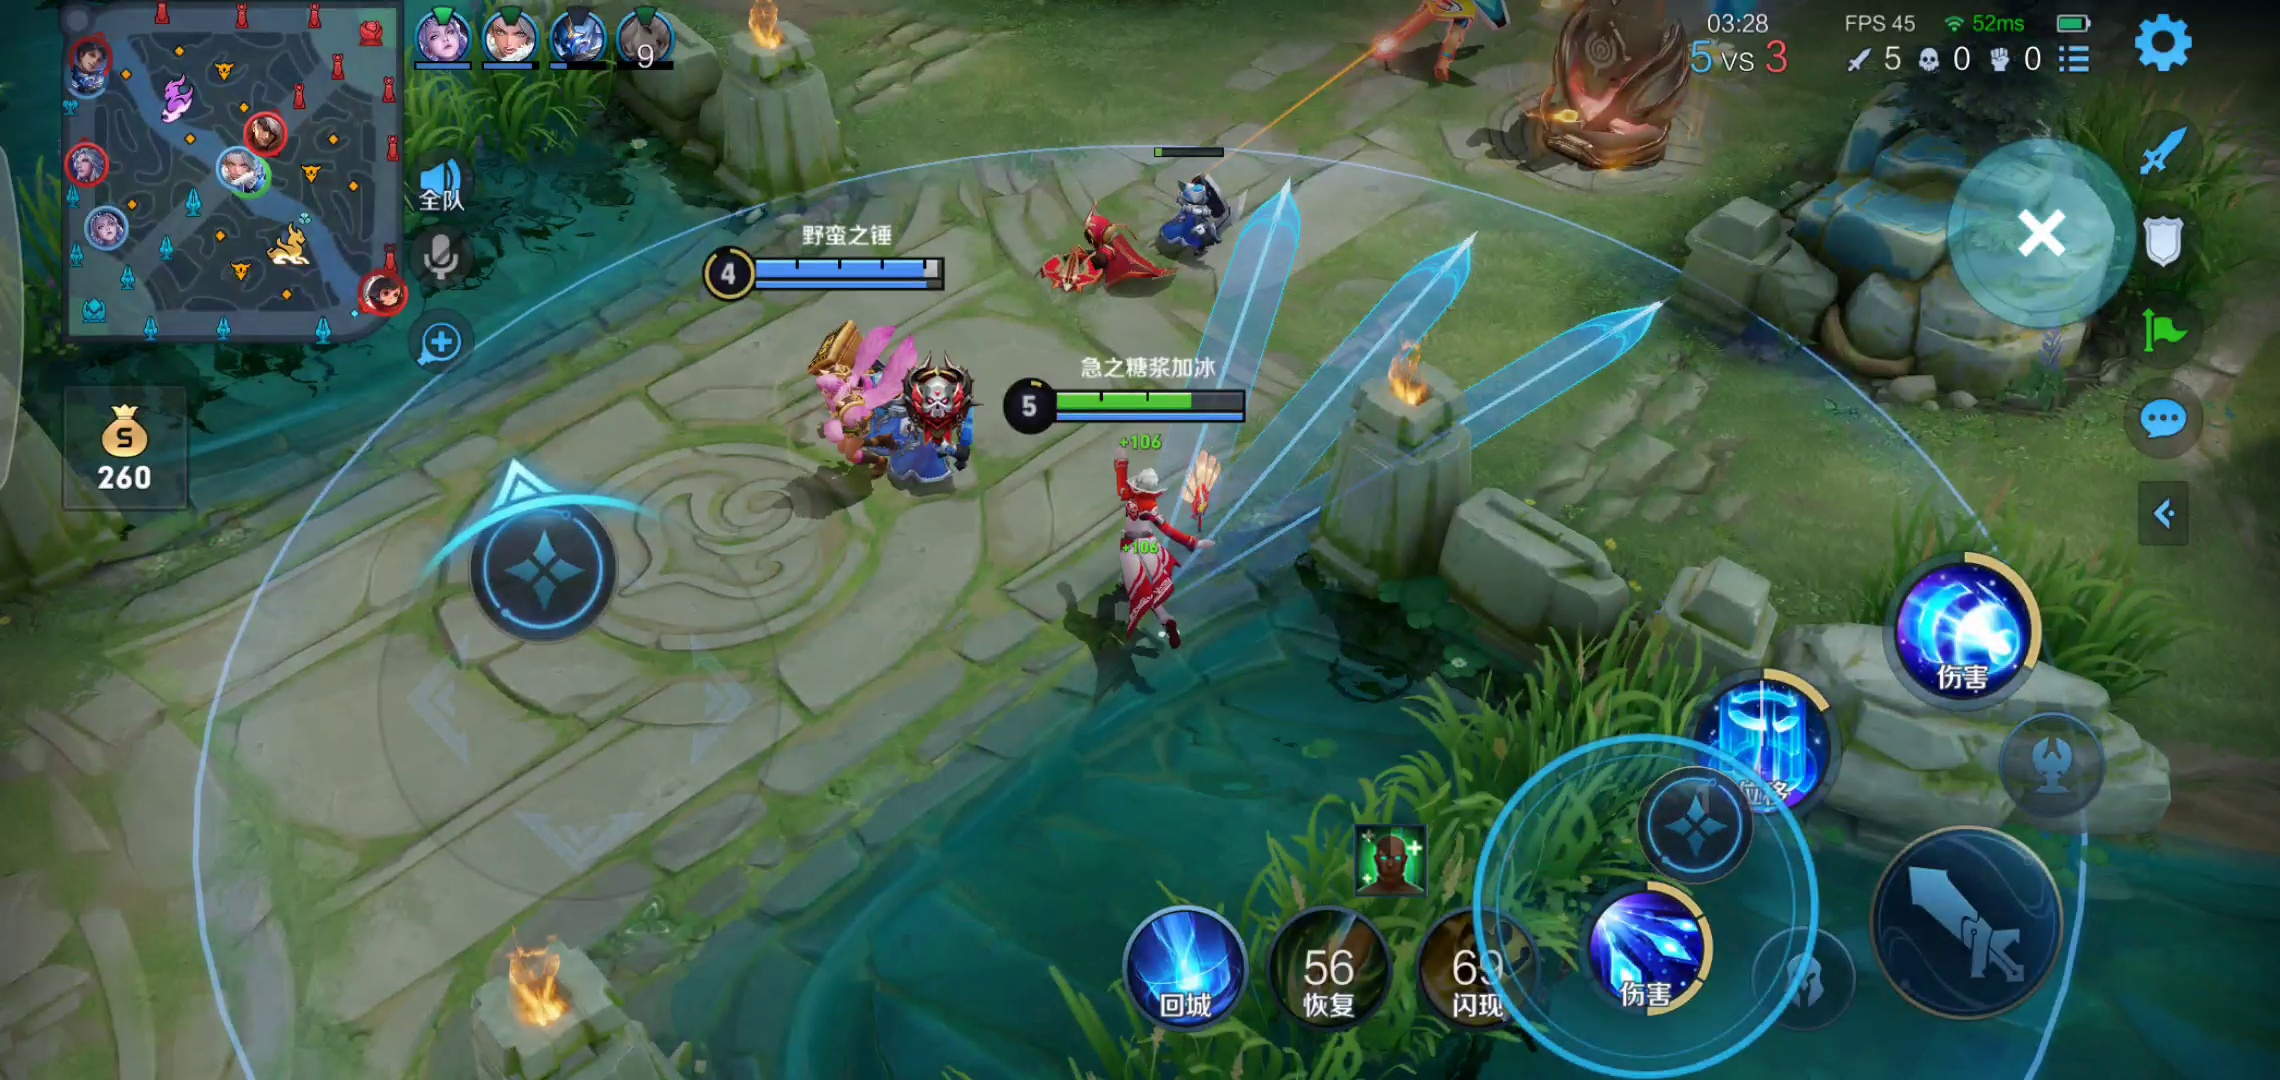grass: (1091, 708, 1850, 1064), (1890, 496, 2156, 708), (393, 9, 649, 198), (2060, 100, 2257, 331)
hero: (1092, 459, 1221, 657), (792, 323, 893, 484), (1389, 1, 1498, 93)
soldier: (1040, 206, 1150, 307), (874, 398, 986, 496), (1152, 166, 1256, 257)
tower: (1538, 1, 1695, 172)
